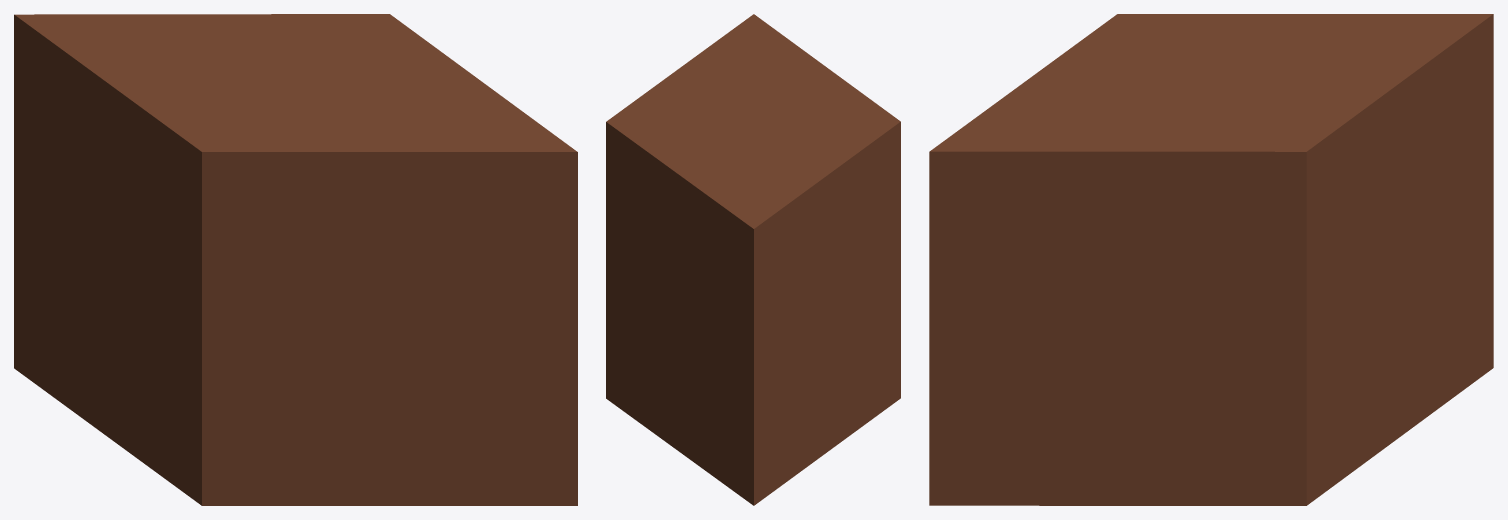
File: wooden_wall7.glb
3 renders of one model, left to right at view 1: azimuth 30°, elevation 25°; view 2: azimuth 150°, elevation 25°; view 3: azimuth 270°, elevation 25°, orthographic. The views are drawn at different scales.
Visible parts, largest first — view 1: WoodenWall7; view 2: WoodenWall7; view 3: WoodenWall7.
Part boxes in pixels (x1,y1,x2,y2): WoodenWall7: (14, 14, 577, 505); WoodenWall7: (606, 14, 900, 505); WoodenWall7: (929, 14, 1493, 505).
Size of the model in its own units: 0.2504 by 0.3 by 0.433.
Materials: 1 (1 with a texture image).
